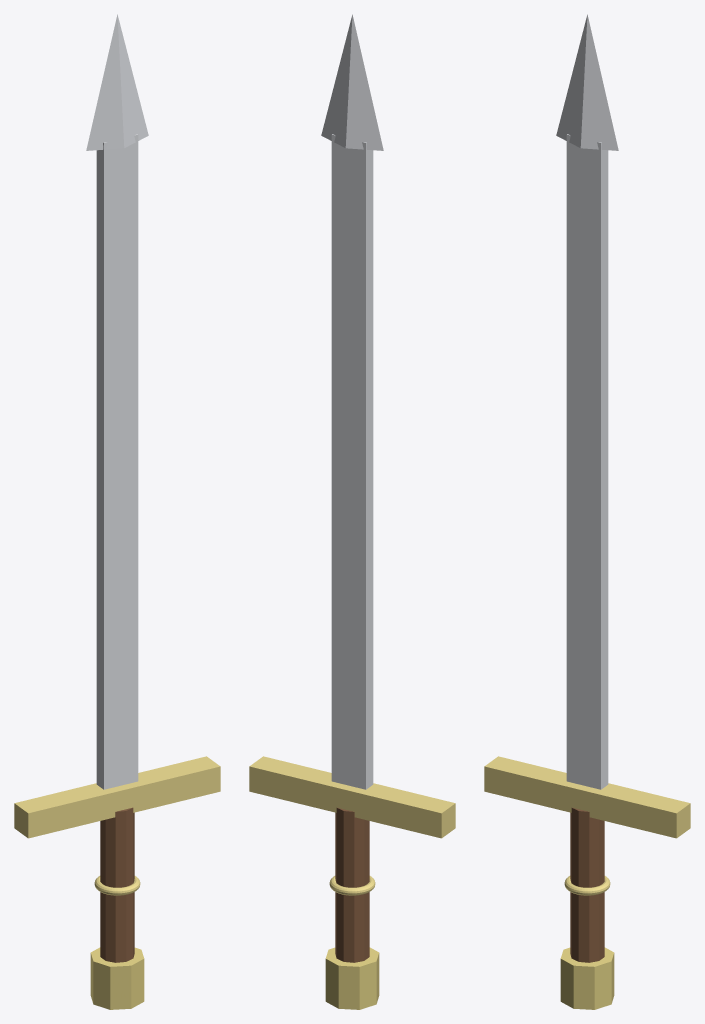
The model's file is hero_longsword.glb.
The picture shows the model from 3 angles, left to right: view 1: azimuth 30°, elevation 25°; view 2: azimuth 150°, elevation 25°; view 3: azimuth 330°, elevation 25°; orthographic projection.
Parts seen in each view (by area): view 1: HeroLongsword; view 2: HeroLongsword; view 3: HeroLongsword.
Boxes of the visible parts, x1,y1,x2,y2 form: HeroLongsword: (14,14,220,1009); HeroLongsword: (249,14,455,1009); HeroLongsword: (484,14,690,1009).
Size of the model in its own units: 0.28 by 1.37 by 0.07.
